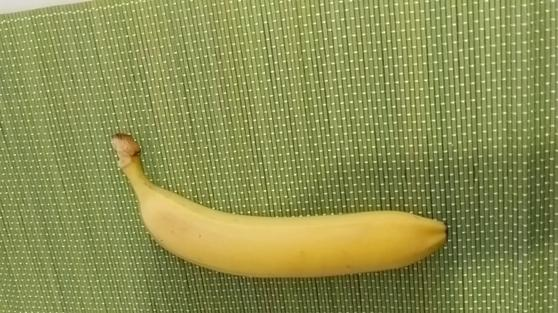banana: (112, 129, 448, 278)
